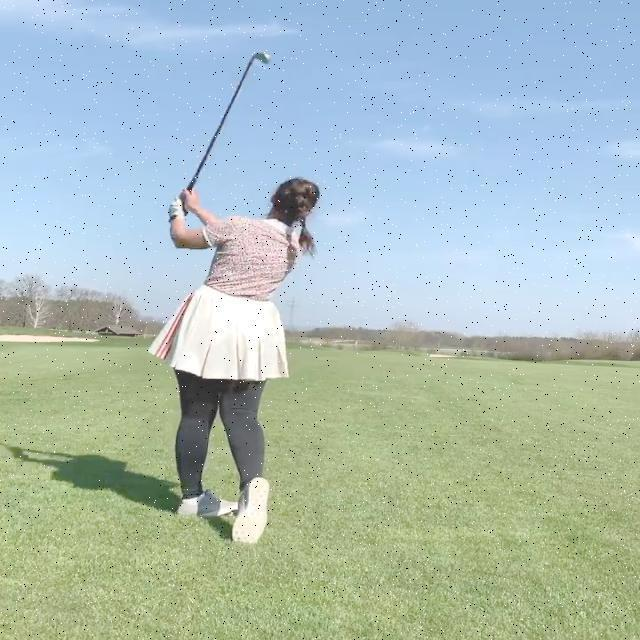ClubHead: (256, 52, 272, 63)
